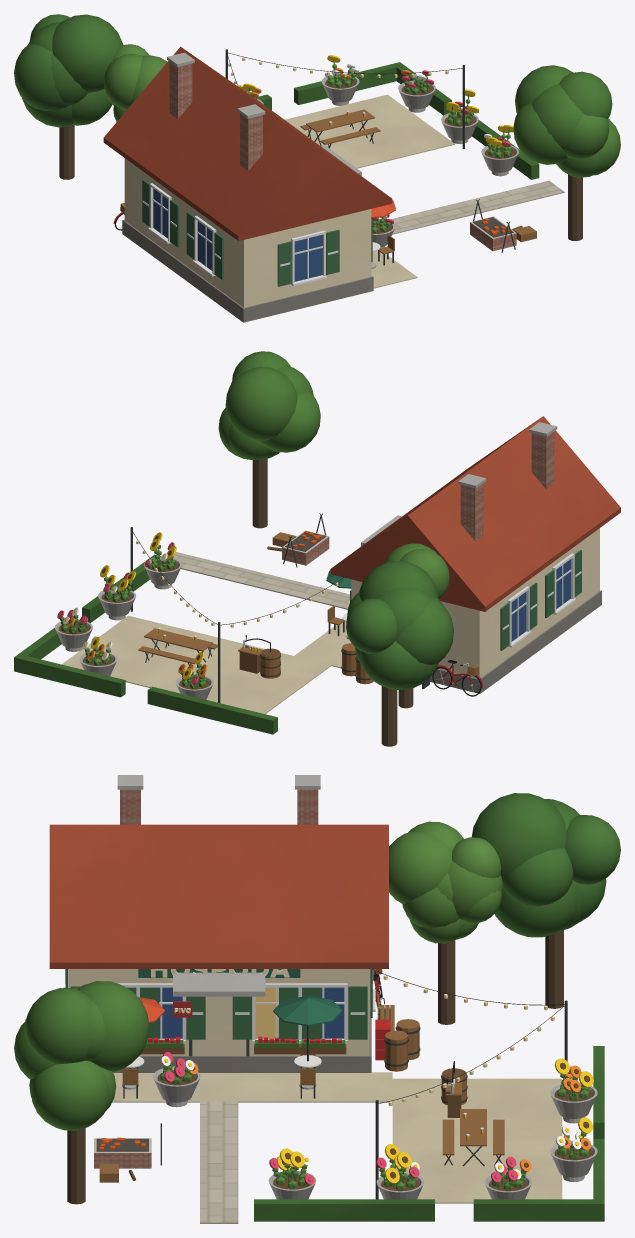
The model's file is hospoda.glb.
3 renders of one model, top to bottom at view 1: azimuth 30°, elevation 25°; view 2: azimuth 150°, elevation 25°; view 3: azimuth 270°, elevation 25°, orthographic. The views are drawn at different scales.
Parts seen in each view (by area): view 1: dum; view 2: dum; view 3: dum, noc.
Boxes of the visible parts, x1=… form: dum: x1=14, y1=14, x2=620, y2=322; dum: x1=14, y1=351, x2=620, y2=746; dum: x1=14, y1=775, x2=620, y2=1223; noc: x1=151, y1=969, x2=554, y2=1106.
Bounding box in the file's own units: 30.92 × 13.4 × 31.41.
Materials: 1 (1 with a texture image).
